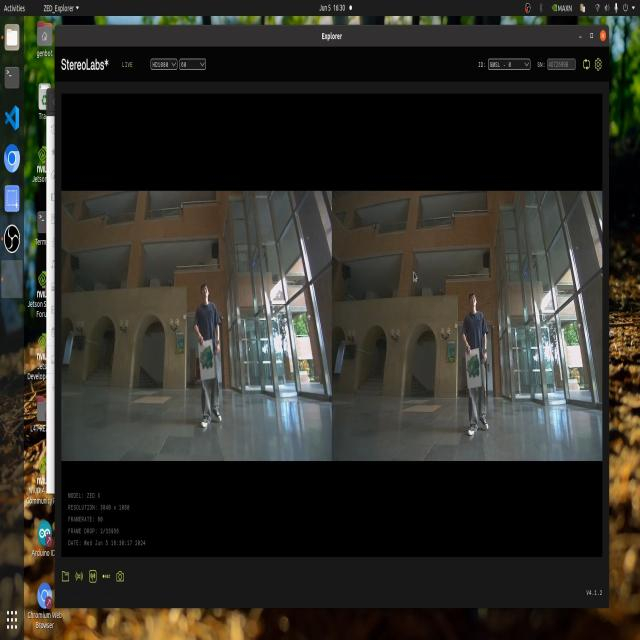green: (198, 334, 220, 372), (466, 354, 484, 390)
